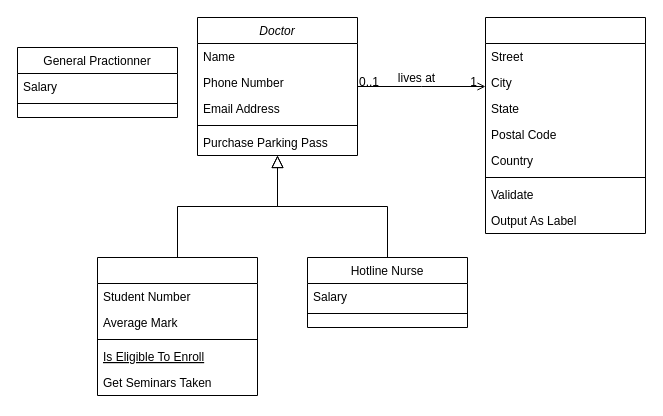
Some shapes in this 663 by 416 pixel diagram are drawn without their labels. Each missing label, with the box of its shape:
Emergency Department: (96, 256, 258, 396)
Patient: (484, 16, 646, 234)
